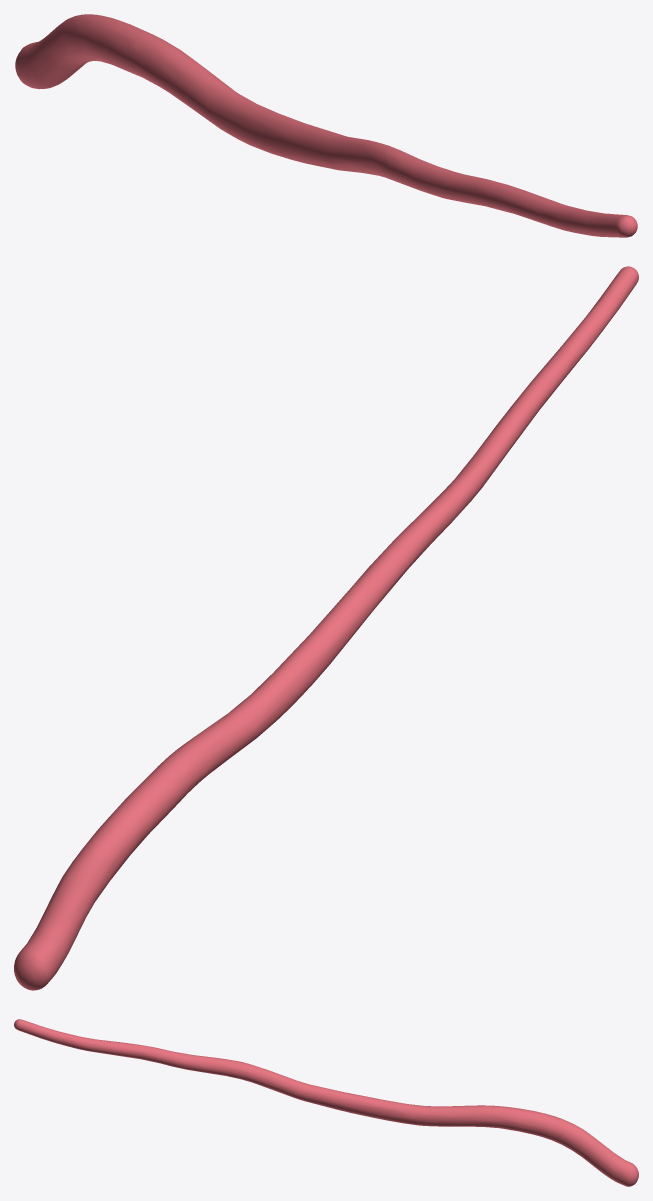
The model's file is fma49870_fj1695m.glb.
3 renders of one model, top to bottom at view 1: azimuth 30°, elevation 25°; view 2: azimuth 150°, elevation 25°; view 3: azimuth 270°, elevation 25°, orthographic. The views are drawn at different scales.
Parts seen in each view (by area): view 1: FMA49870_FJ1695M; view 2: FMA49870_FJ1695M; view 3: FMA49870_FJ1695M.
Boxes of the visible parts, <box> form: FMA49870_FJ1695M: <box>15,14,637,237</box>; FMA49870_FJ1695M: <box>14,266,638,990</box>; FMA49870_FJ1695M: <box>14,1019,638,1186</box>.
Size of the model in its own units: 0.00327 by 0.0155 by 0.0544.
